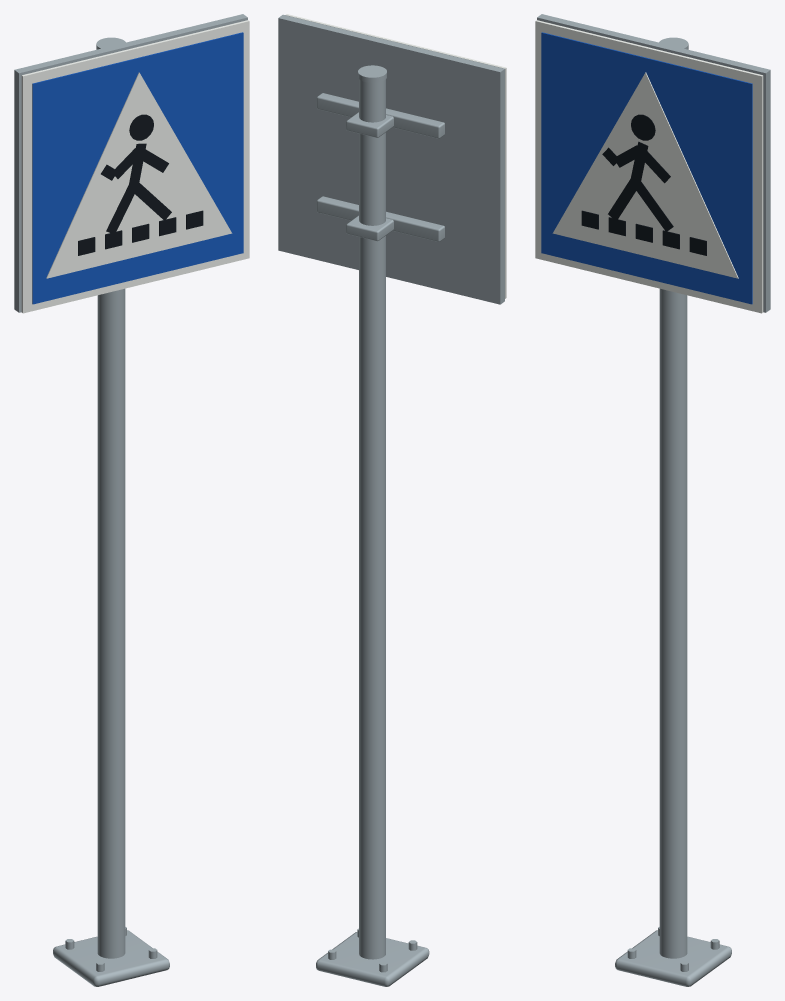
The model's file is DS_Sign_Crossing.glb.
3 views of the same model, side by side, from view 1: azimuth 30°, elevation 25°; view 2: azimuth 150°, elevation 25°; view 3: azimuth 330°, elevation 25° (orthographic). The views are drawn at different scales.
Visible parts, largest first — view 1: Face_Field.007, Post.007, CrossingTriangle, Face_Border.007, Plate_Back.007, BasePlate.007, Pictogram0.001, Pictogram1; view 2: Plate_Back.007, Post.007, BasePlate.007, RearRail.014, RearRail.015, Face_Border.007, PostClamp.014, PostClamp.015; view 3: Face_Field.007, Post.007, CrossingTriangle, Face_Border.007, Plate_Back.007, BasePlate.007, Pictogram0.001.
Part boxes in pixels (bbox=[...]): Face_Field.007: bbox=[32, 32, 243, 304]; Post.007: bbox=[97, 288, 125, 958]; CrossingTriangle: bbox=[46, 72, 232, 278]; Face_Border.007: bbox=[21, 20, 249, 313]; Plate_Back.007: bbox=[14, 14, 247, 312]; BasePlate.007: bbox=[53, 930, 169, 986]; Pictogram0.001: bbox=[130, 181, 171, 220]; Pictogram1: bbox=[106, 184, 137, 234]; Plate_Back.007: bbox=[278, 14, 504, 304]; Post.007: bbox=[359, 79, 385, 959]; BasePlate.007: bbox=[316, 932, 429, 986]; RearRail.014: bbox=[316, 196, 444, 241]; RearRail.015: bbox=[316, 93, 444, 138]; Face_Border.007: bbox=[285, 14, 506, 298]; PostClamp.014: bbox=[346, 215, 393, 241]; PostClamp.015: bbox=[346, 112, 393, 137]; Face_Field.007: bbox=[541, 32, 752, 304]; Post.007: bbox=[659, 288, 687, 958]; CrossingTriangle: bbox=[552, 72, 738, 278]; Face_Border.007: bbox=[535, 20, 763, 313]; Plate_Back.007: bbox=[537, 14, 770, 312]; BasePlate.007: bbox=[615, 930, 731, 986]; Pictogram0.001: bbox=[632, 181, 673, 231].
Size of the model in its own units: 0.72 by 2.81 by 0.286.
